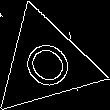O_SE: (13, 30, 79, 96)
